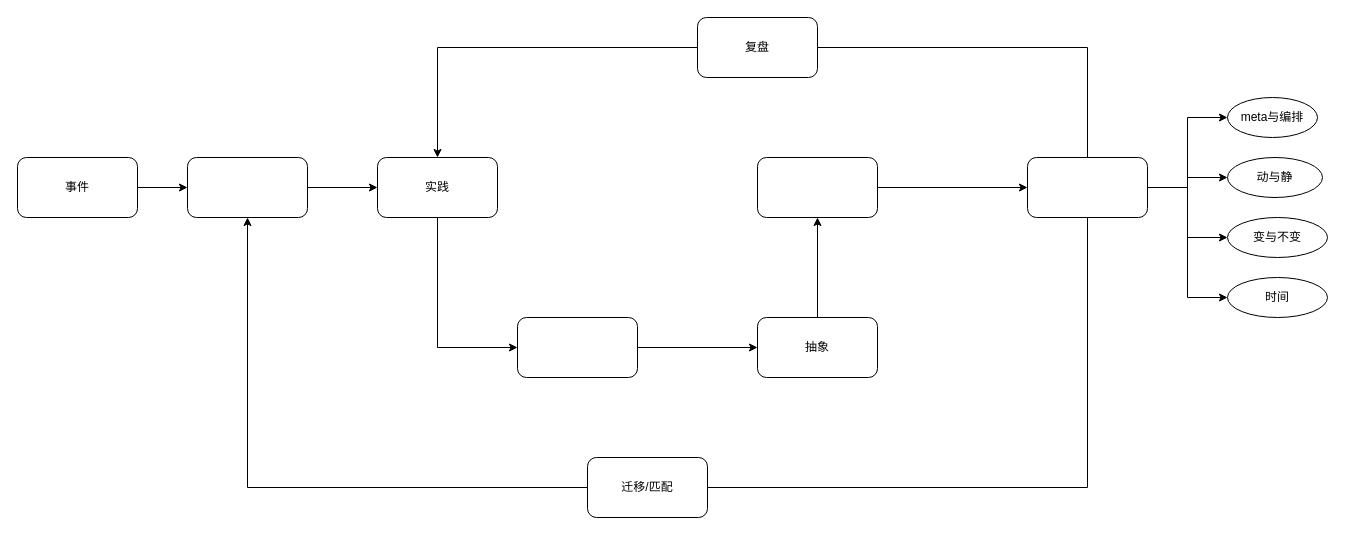
The diagram is 1345 pixels wide and 535 high, and some of its shapes have lost their labels. Each missing label, with the centre of its shape:
头脑风暴: the point at 247,187
思考: the point at 577,347
模型: the point at 1087,187
规律: the point at 817,187
